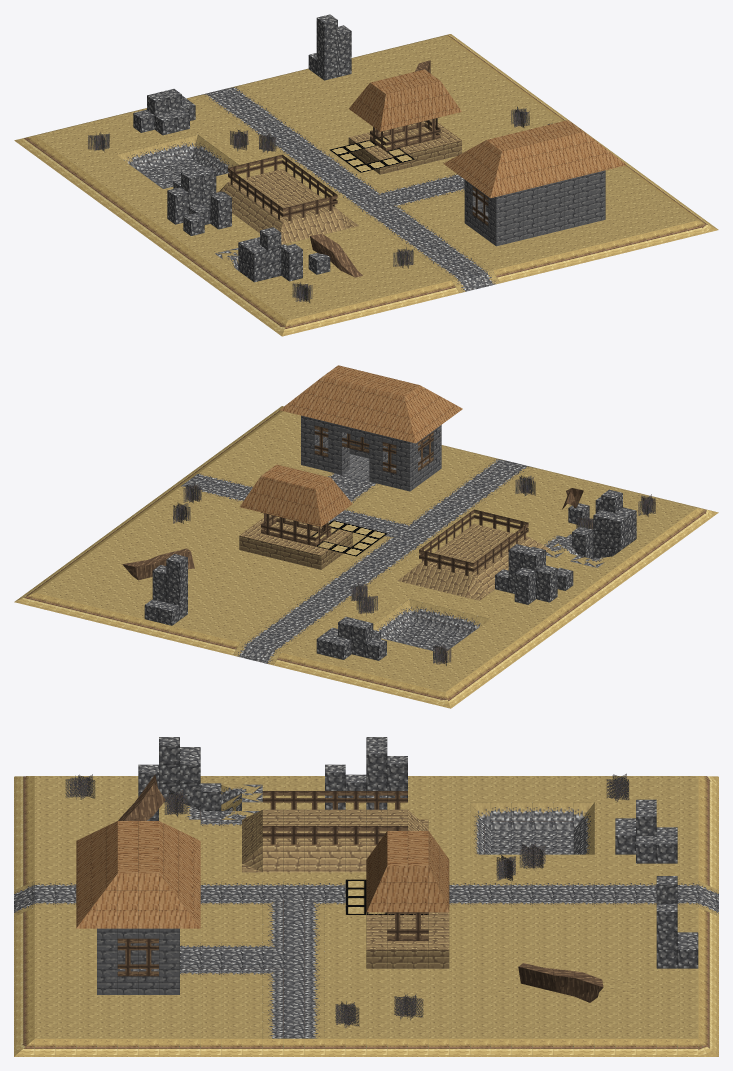
File: Chapter2.obj
The picture shows the model from 3 angles, top to bottom: view 1: azimuth 30°, elevation 25°; view 2: azimuth 150°, elevation 25°; view 3: azimuth 270°, elevation 25°; orthographic projection. The views are drawn at different scales.
Parts seen in each view (by area): view 1: Default; view 2: Default; view 3: Default.
Boxes of the visible parts, box(x1,y1,x2,y2) form: Default: box(14, 14, 718, 336); Default: box(14, 365, 718, 708); Default: box(14, 737, 718, 1056).
Size of the model in its own units: 32 by 7.13 by 34.
3 materials, 3 textured.
